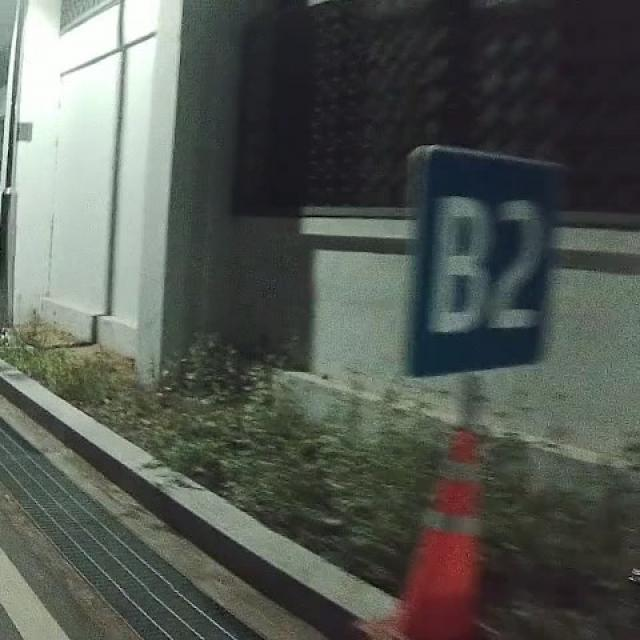b2: (399, 132, 561, 384)
